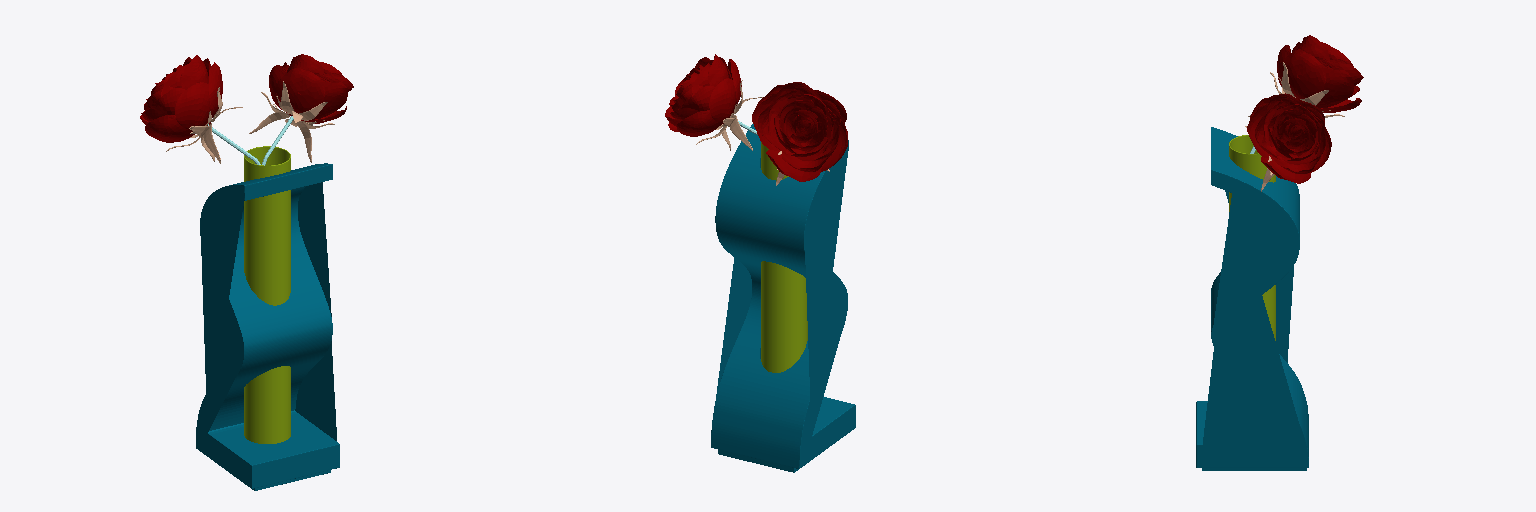
Rendered from AJ-Vase.obj.
3 renders of one model, left to right at view 1: azimuth 30°, elevation 25°; view 2: azimuth 150°, elevation 25°; view 3: azimuth 270°, elevation 25°, orthographic.
Visible parts, largest first — view 1: Plane1493, Circle001, Plane2056, Plane2054, Plane2055, Plane2057; view 2: Plane1493, Plane2056, Circle001, Plane2054, Plane2055; view 3: Plane1493, Plane2054, Plane2056, Circle001.
Part boxes in pixels (bbox=[...]): Plane1493: bbox=[196, 163, 339, 490]; Circle001: bbox=[244, 146, 290, 443]; Plane2056: bbox=[140, 55, 222, 142]; Plane2054: bbox=[269, 54, 353, 123]; Plane2055: bbox=[249, 81, 334, 162]; Plane2057: bbox=[166, 87, 242, 163]; Plane1493: bbox=[711, 124, 855, 472]; Plane2056: bbox=[752, 82, 847, 181]; Circle001: bbox=[761, 142, 807, 372]; Plane2054: bbox=[665, 54, 741, 136]; Plane2055: bbox=[696, 80, 762, 150]; Plane1493: bbox=[1196, 127, 1308, 470]; Plane2054: bbox=[1247, 93, 1331, 183]; Plane2056: bbox=[1277, 35, 1363, 112]; Circle001: bbox=[1229, 135, 1275, 340].
Bounding box in the file's own units: 115 × 234 × 89.81.